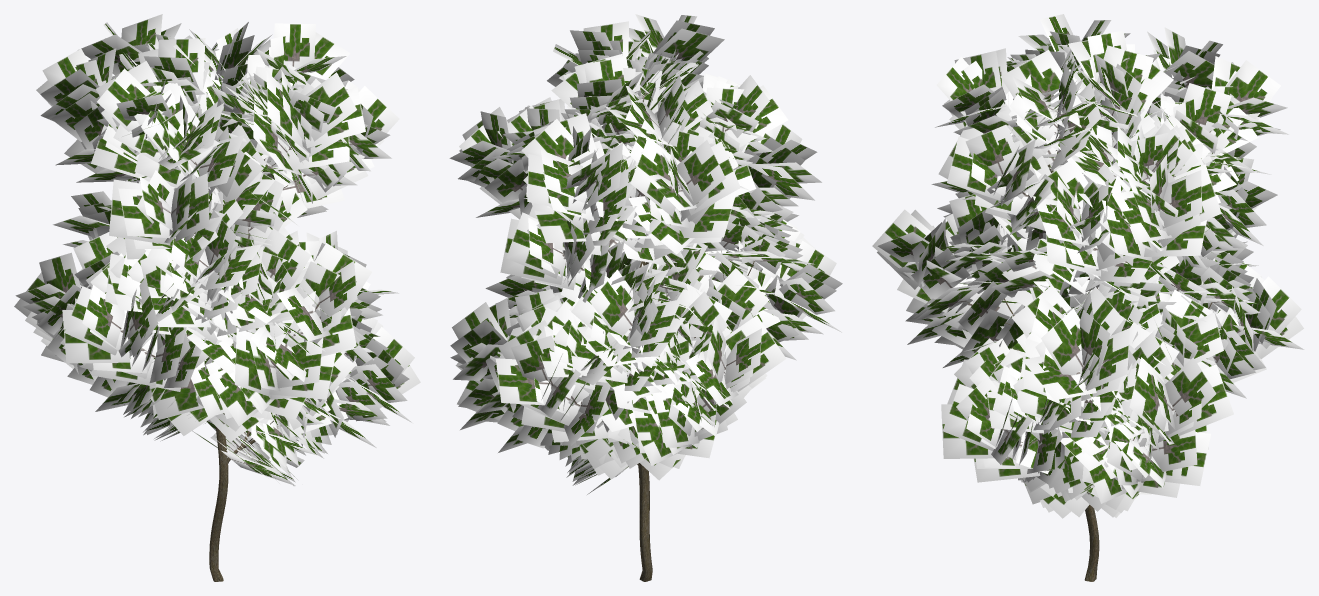
Rendered from real_tree_models.glb.
The picture shows the model from 3 angles, left to right: view 1: azimuth 30°, elevation 25°; view 2: azimuth 150°, elevation 25°; view 3: azimuth 270°, elevation 25°; orthographic projection. The views are drawn at different scales.
Visible parts, largest first — view 1: Maple_1_Maple_Leaf_0, Maple_1_Maple_Bark_0; view 2: Maple_1_Maple_Leaf_0, Maple_1_Maple_Bark_0; view 3: Maple_1_Maple_Leaf_0, Maple_1_Maple_Bark_0.
Boxes of the visible parts, x1,y1,x2,y2 form: Maple_1_Maple_Leaf_0: (14, 14, 420, 486); Maple_1_Maple_Bark_0: (120, 148, 320, 581); Maple_1_Maple_Leaf_0: (449, 14, 842, 494); Maple_1_Maple_Bark_0: (545, 129, 754, 581); Maple_1_Maple_Leaf_0: (872, 14, 1304, 518); Maple_1_Maple_Bark_0: (966, 109, 1212, 581).
Bounding box in the file's own units: 11.8 × 17.87 × 12.86.
Materials: 2 (2 with a texture image).
